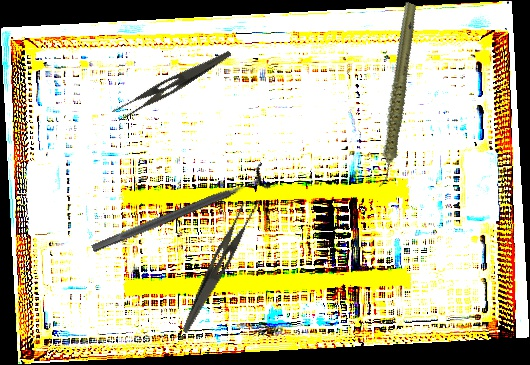Dressing Forceps: (180, 191, 263, 341), (110, 38, 233, 127)
Fixation Ring: (86, 161, 273, 262)
Handpiece: (336, 0, 454, 190)
